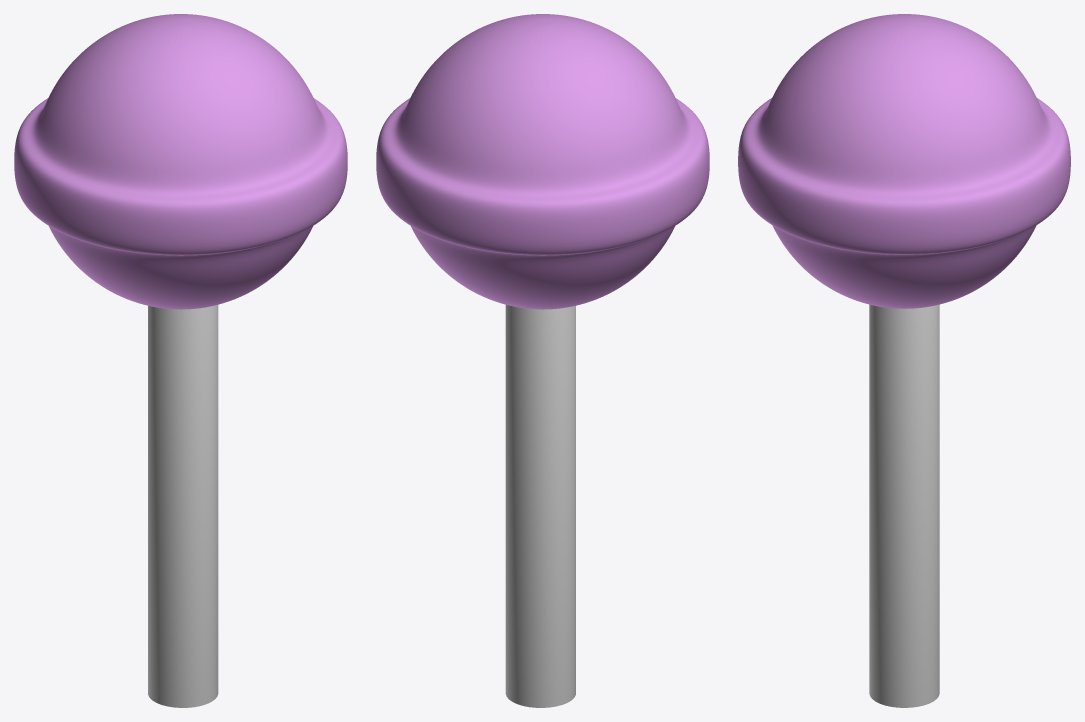
The model's file is permen.glb.
3 renders of one model, left to right at view 1: azimuth 30°, elevation 25°; view 2: azimuth 150°, elevation 25°; view 3: azimuth 270°, elevation 25°, orthographic.
Parts seen in each view (by area): view 1: Bola, Silinder; view 2: Bola, Silinder; view 3: Bola, Silinder.
Boxes of the visible parts, left/top/right/bottom form: Bola: left=14, top=14, right=347, bottom=309; Silinder: left=148, top=305, right=218, bottom=707; Bola: left=376, top=14, right=709, bottom=309; Silinder: left=505, top=305, right=575, bottom=707; Bola: left=738, top=14, right=1070, bottom=308; Silinder: left=869, top=304, right=939, bottom=707.
Size of the model in its own units: 2.24 by 4.94 by 2.24.
